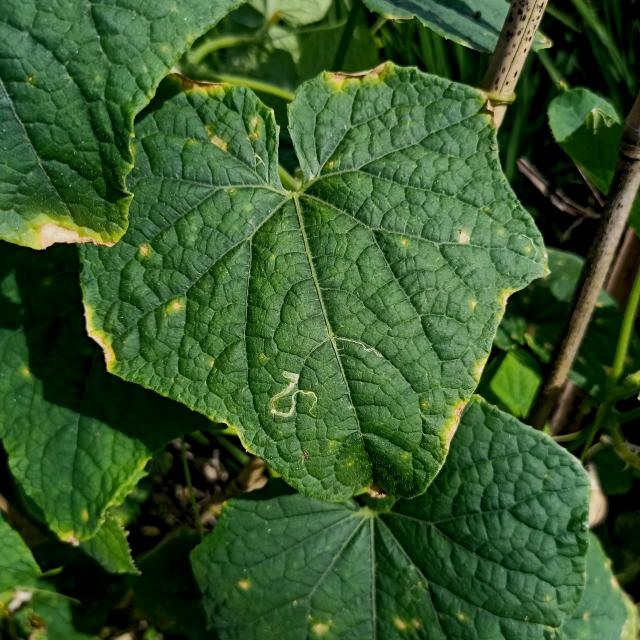disease_cucumber: (201, 113, 262, 157), (470, 284, 512, 315), (456, 230, 471, 248), (137, 243, 153, 259), (168, 298, 184, 314)
